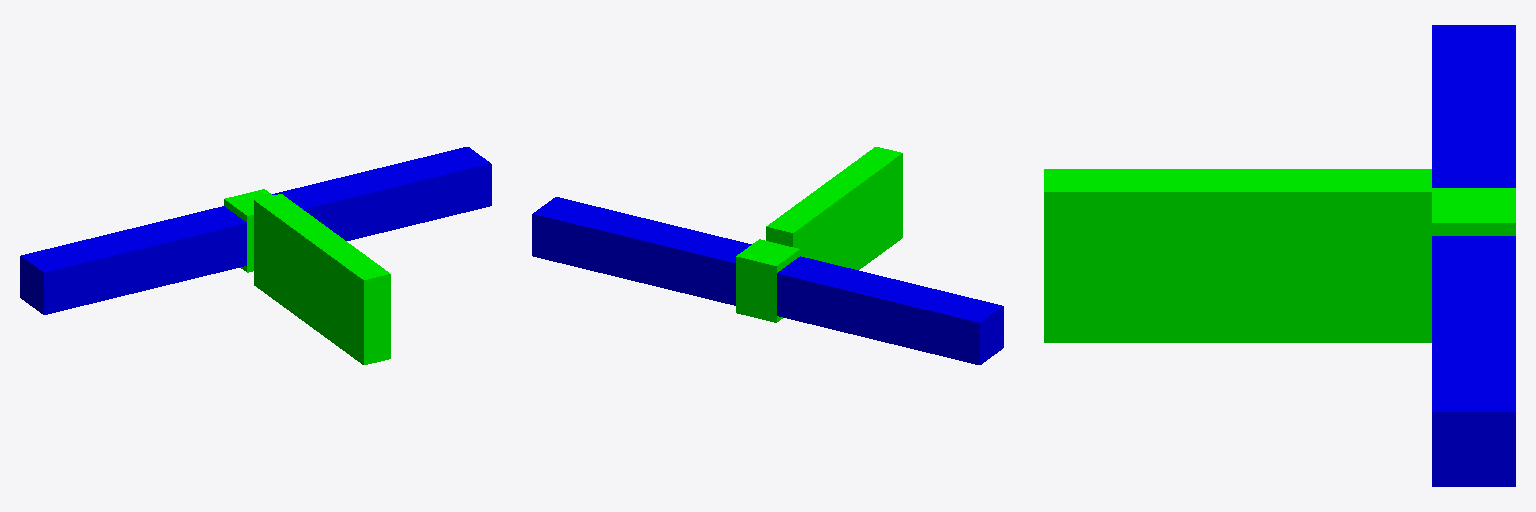
robot.urdf — robot:
<robot name = "robot">
    <link name="root">
        <inertial>
            <origin xyz="0.0 0.0 1.5" rpy="0 0 0"/>
            <mass value="1" />
            <inertia ixx="100" ixy="0" ixz="0" iyy="100" iyz="0" izz="100" />
        </inertial>
        <visual>
            <origin xyz="0.0 0.0 1.5" rpy="0 0 0"/>
            <geometry>
                <box size="0 0 0.0001" />
            </geometry>
            <material name="Green">
                <color rgba="0 1.0 0.0 1.0"/>
            </material>
        </visual>
        <collision>
            <origin xyz="0.0 0.0 1.5" rpy="0 0 0"/>
            <geometry>
                <box size="0 0 0.0001" />
            </geometry>
        </collision>
    </link>
    <joint name="root_000" type="revolute">
       <parent link="root"/>
       <child  link="000"/>
       <origin rpy="0 0 0" xyz="0.0 0.0 1.5" />
     <axis xyz="1 0 0"/>
       <limit effort="0.0" lower="-3.14159" upper="3.14159" velocity="0.0"/>
    </joint>
    <link name="000">
        <inertial>
            <origin xyz="0.0 0.35 0.0" rpy="0 0 0"/>
            <mass value="1" />
            <inertia ixx="100" ixy="0" ixz="0" iyy="100" iyz="0" izz="100" />
        </inertial>
        <visual>
            <origin xyz="0.0 0.35 0.0" rpy="0 0 0"/>
            <geometry>
                <box size="0.2 0.7 0.6" />
            </geometry>
            <material name="Green">
                <color rgba="0 1.0 0.0 1.0"/>
            </material>
        </visual>
        <collision>
            <origin xyz="0.0 0.35 0.0" rpy="0 0 0"/>
            <geometry>
                <box size="0.2 0.7 0.6" />
            </geometry>
        </collision>
    </link>
    <joint name="000_010" type="revolute">
       <parent link="000"/>
       <child  link="010"/>
       <origin rpy="0 0 0" xyz="0.0 0.7 -0.0" />
     <axis xyz="0 1 0"/>
       <limit effort="0.0" lower="-3.14159" upper="3.14159" velocity="0.0"/>
    </joint>
    <link name="010">
        <inertial>
            <origin xyz="0.0 0.35 -0.0" rpy="0 0 0"/>
            <mass value="1" />
            <inertia ixx="100" ixy="0" ixz="0" iyy="100" iyz="0" izz="100" />
        </inertial>
        <visual>
            <origin xyz="0.0 0.35 -0.0" rpy="0 0 0"/>
            <geometry>
                <box size="0.2 0.7 0.6" />
            </geometry>
            <material name="Green">
                <color rgba="0 1.0 0.0 1.0"/>
            </material>
        </visual>
        <collision>
            <origin xyz="0.0 0.35 -0.0" rpy="0 0 0"/>
            <geometry>
                <box size="0.2 0.7 0.6" />
            </geometry>
        </collision>
    </link>
    <joint name="010_010-100" type="revolute">
       <parent link="010"/>
       <child  link="010-100"/>
       <origin rpy="0 0 0" xyz="0.0 0.7 -0.0" />
     <axis xyz="0 1 0"/>
       <limit effort="0.0" lower="-3.14159" upper="3.14159" velocity="0.0"/>
    </joint>
    <link name="010-100">
        <inertial>
            <origin xyz="0.0 0.15 -0.0" rpy="0 0 0"/>
            <mass value="1" />
            <inertia ixx="100" ixy="0" ixz="0" iyy="100" iyz="0" izz="100" />
        </inertial>
        <visual>
            <origin xyz="0.0 0.15 -0.0" rpy="0 0 0"/>
            <geometry>
                <box size="0.3 0.3 0.4" />
            </geometry>
            <material name="Green">
                <color rgba="0 1.0 0.0 1.0"/>
            </material>
        </visual>
        <collision>
            <origin xyz="0.0 0.15 -0.0" rpy="0 0 0"/>
            <geometry>
                <box size="0.3 0.3 0.4" />
            </geometry>
        </collision>
    </link>
    <joint name="010-100_010-100-200" type="revolute">
       <parent link="010-100"/>
       <child  link="010-100-200"/>
       <origin rpy="0 0 0" xyz="0.15 0.15 -0.0" />
     <axis xyz="1 0 0"/>
       <limit effort="0.0" lower="-3.14159" upper="3.14159" velocity="0.0"/>
    </joint>
    <link name="010-100-200">
        <inertial>
            <origin xyz="0.25 0.0 -0.0" rpy="0 0 0"/>
            <mass value="1" />
            <inertia ixx="100" ixy="0" ixz="0" iyy="100" iyz="0" izz="100" />
        </inertial>
        <visual>
            <origin xyz="0.25 0.0 -0.0" rpy="0 0 0"/>
            <geometry>
                <box size="0.5 0.3 0.3" />
            </geometry>
            <material name="Blue">
                <color rgba="0 0.0 1.0 1.0"/>
            </material>
        </visual>
        <collision>
            <origin xyz="0.25 0.0 -0.0" rpy="0 0 0"/>
            <geometry>
                <box size="0.5 0.3 0.3" />
            </geometry>
        </collision>
    </link>
    <joint name="010-100-200_010-100-210" type="revolute">
       <parent link="010-100-200"/>
       <child  link="010-100-210"/>
       <origin rpy="0 0 0" xyz="0.5 0.0 -0.0" />
     <axis xyz="1 0 0"/>
       <limit effort="0.0" lower="-3.14159" upper="3.14159" velocity="0.0"/>
    </joint>
    <link name="010-100-210">
        <inertial>
            <origin xyz="0.25 0.0 -0.0" rpy="0 0 0"/>
            <mass value="1" />
            <inertia ixx="100" ixy="0" ixz="0" iyy="100" iyz="0" izz="100" />
        </inertial>
        <visual>
            <origin xyz="0.25 0.0 -0.0" rpy="0 0 0"/>
            <geometry>
                <box size="0.5 0.3 0.3" />
            </geometry>
            <material name="Blue">
                <color rgba="0 0.0 1.0 1.0"/>
            </material>
        </visual>
        <collision>
            <origin xyz="0.25 0.0 -0.0" rpy="0 0 0"/>
            <geometry>
                <box size="0.5 0.3 0.3" />
            </geometry>
        </collision>
    </link>
    <joint name="010-100-210_010-100-220" type="revolute">
       <parent link="010-100-210"/>
       <child  link="010-100-220"/>
       <origin rpy="0 0 0" xyz="0.5 0.0 -0.0" />
     <axis xyz="1 0 0"/>
       <limit effort="0.0" lower="-3.14159" upper="3.14159" velocity="0.0"/>
    </joint>
    <link name="010-100-220">
        <inertial>
            <origin xyz="0.25 0.0 -0.0" rpy="0 0 0"/>
            <mass value="1" />
            <inertia ixx="100" ixy="0" ixz="0" iyy="100" iyz="0" izz="100" />
        </inertial>
        <visual>
            <origin xyz="0.25 0.0 -0.0" rpy="0 0 0"/>
            <geometry>
                <box size="0.5 0.3 0.3" />
            </geometry>
            <material name="Blue">
                <color rgba="0 0.0 1.0 1.0"/>
            </material>
        </visual>
        <collision>
            <origin xyz="0.25 0.0 -0.0" rpy="0 0 0"/>
            <geometry>
                <box size="0.5 0.3 0.3" />
            </geometry>
        </collision>
    </link>
    <joint name="010-100_010-100-201" type="revolute">
       <parent link="010-100"/>
       <child  link="010-100-201"/>
       <origin rpy="0 0 0" xyz="-0.15 0.15 -0.0" />
     <axis xyz="1 0 0"/>
       <limit effort="0.0" lower="-3.14159" upper="3.14159" velocity="0.0"/>
    </joint>
    <link name="010-100-201">
        <inertial>
            <origin xyz="-0.25 0.0 -0.0" rpy="0 0 0"/>
            <mass value="1" />
            <inertia ixx="100" ixy="0" ixz="0" iyy="100" iyz="0" izz="100" />
        </inertial>
        <visual>
            <origin xyz="-0.25 0.0 -0.0" rpy="0 0 0"/>
            <geometry>
                <box size="0.5 0.3 0.3" />
            </geometry>
            <material name="Blue">
                <color rgba="0 0.0 1.0 1.0"/>
            </material>
        </visual>
        <collision>
            <origin xyz="-0.25 0.0 -0.0" rpy="0 0 0"/>
            <geometry>
                <box size="0.5 0.3 0.3" />
            </geometry>
        </collision>
    </link>
    <joint name="010-100-201_010-100-211" type="revolute">
       <parent link="010-100-201"/>
       <child  link="010-100-211"/>
       <origin rpy="0 0 0" xyz="-0.5 0.0 -0.0" />
     <axis xyz="1 0 0"/>
       <limit effort="0.0" lower="-3.14159" upper="3.14159" velocity="0.0"/>
    </joint>
    <link name="010-100-211">
        <inertial>
            <origin xyz="-0.25 0.0 -0.0" rpy="0 0 0"/>
            <mass value="1" />
            <inertia ixx="100" ixy="0" ixz="0" iyy="100" iyz="0" izz="100" />
        </inertial>
        <visual>
            <origin xyz="-0.25 0.0 -0.0" rpy="0 0 0"/>
            <geometry>
                <box size="0.5 0.3 0.3" />
            </geometry>
            <material name="Blue">
                <color rgba="0 0.0 1.0 1.0"/>
            </material>
        </visual>
        <collision>
            <origin xyz="-0.25 0.0 -0.0" rpy="0 0 0"/>
            <geometry>
                <box size="0.5 0.3 0.3" />
            </geometry>
        </collision>
    </link>
    <joint name="010-100-211_010-100-221" type="revolute">
       <parent link="010-100-211"/>
       <child  link="010-100-221"/>
       <origin rpy="0 0 0" xyz="-0.5 0.0 -0.0" />
     <axis xyz="1 0 0"/>
       <limit effort="0.0" lower="-3.14159" upper="3.14159" velocity="0.0"/>
    </joint>
    <link name="010-100-221">
        <inertial>
            <origin xyz="-0.25 0.0 -0.0" rpy="0 0 0"/>
            <mass value="1" />
            <inertia ixx="100" ixy="0" ixz="0" iyy="100" iyz="0" izz="100" />
        </inertial>
        <visual>
            <origin xyz="-0.25 0.0 -0.0" rpy="0 0 0"/>
            <geometry>
                <box size="0.5 0.3 0.3" />
            </geometry>
            <material name="Blue">
                <color rgba="0 0.0 1.0 1.0"/>
            </material>
        </visual>
        <collision>
            <origin xyz="-0.25 0.0 -0.0" rpy="0 0 0"/>
            <geometry>
                <box size="0.5 0.3 0.3" />
            </geometry>
        </collision>
    </link>
</robot>

--- Render facts (derived) ---
3 views of the same robot in one strip: view 1: azimuth 30°, elevation 25°; view 2: azimuth 150°, elevation 25°; view 3: azimuth 270°, elevation 25° (orthographic).
Model robot with 10 links and 9 joints (9 revolute), rooted at root, posed all joints at 0.
Visible links, largest first — view 1: [phone redacted] (×6), 000, 010, 010-100; view 2: [phone redacted] (×6), 000, 010, 010-100; view 3: [phone redacted] (×6), 000, 010, 010-100.
Boxes of the visible links, x1,y1,x2,y2 form: [phone redacted] (×6): [20, 147, 491, 314]; 000: [309, 234, 390, 364]; 010: [254, 194, 335, 324]; 010-100: [224, 189, 272, 272]; [phone redacted] (×6): [532, 197, 1003, 364]; 000: [821, 147, 902, 269]; 010: [766, 187, 847, 267]; 010-100: [736, 239, 799, 322]; [phone redacted] (×6): [1432, 25, 1515, 486]; 000: [1044, 169, 1237, 342]; 010: [1238, 169, 1431, 342]; 010-100: [1432, 188, 1515, 235].
Bounding box of the posed robot: 3.3 × 1.7 × 0.6 m (x, y, z).
Geometry: primitives only (box / cylinder / sphere), no mesh files.
